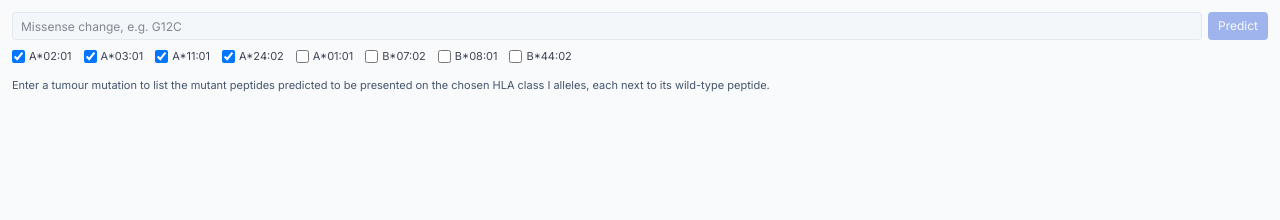
Test: NeoantigenPanel › says when nothing binds
Type "G12C" into the field labelled "Missense change".
click(607, 26); type("G12C")  # box [12, 12, 1202, 40]
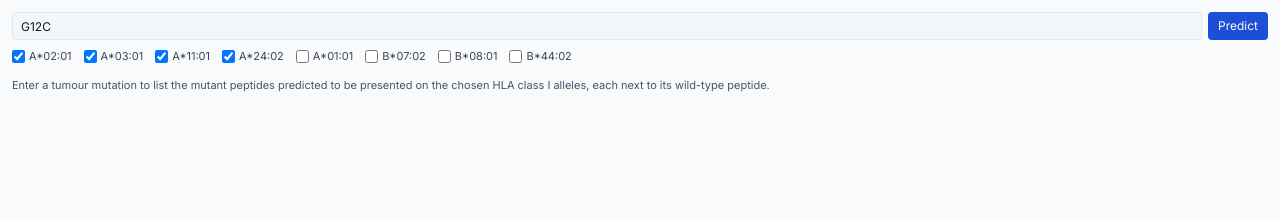
Click the button "Predict".
click(1238, 26)  # box [1208, 12, 1268, 40]
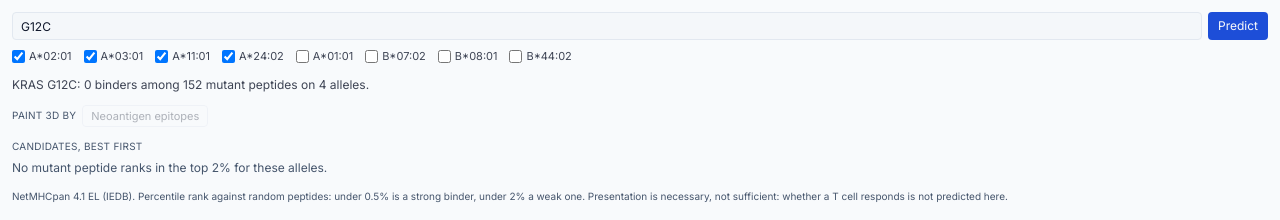
Check: the text "No mutant peptide ranks in the top 2% for these alleles." is shown, box [12, 160, 327, 175]
Check: the button "Neoantigen epitopes" is disabled, box [82, 104, 208, 127]
